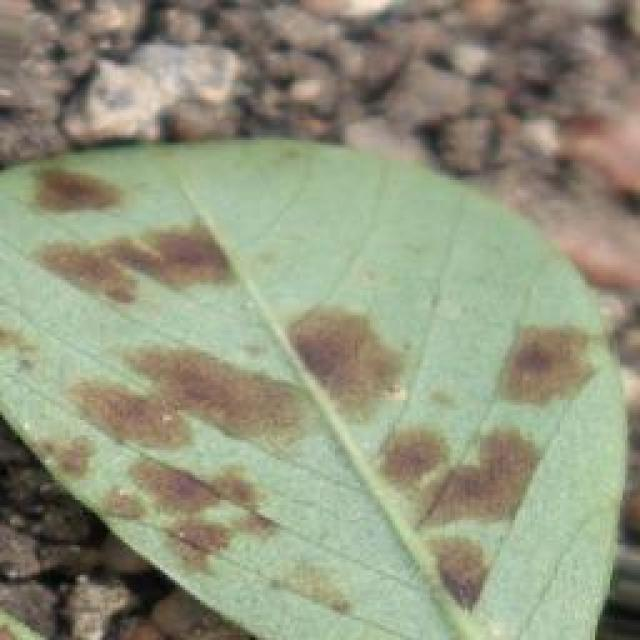Whitefly: (1, 137, 640, 640)
